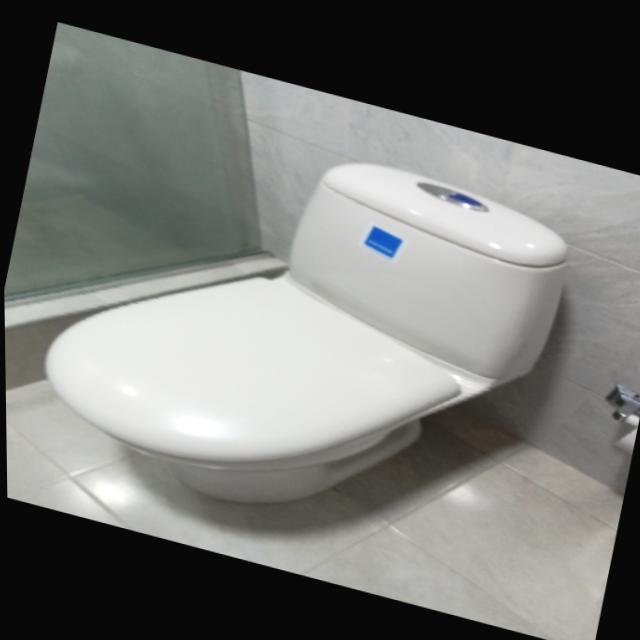toilet: (19, 83, 582, 573)
